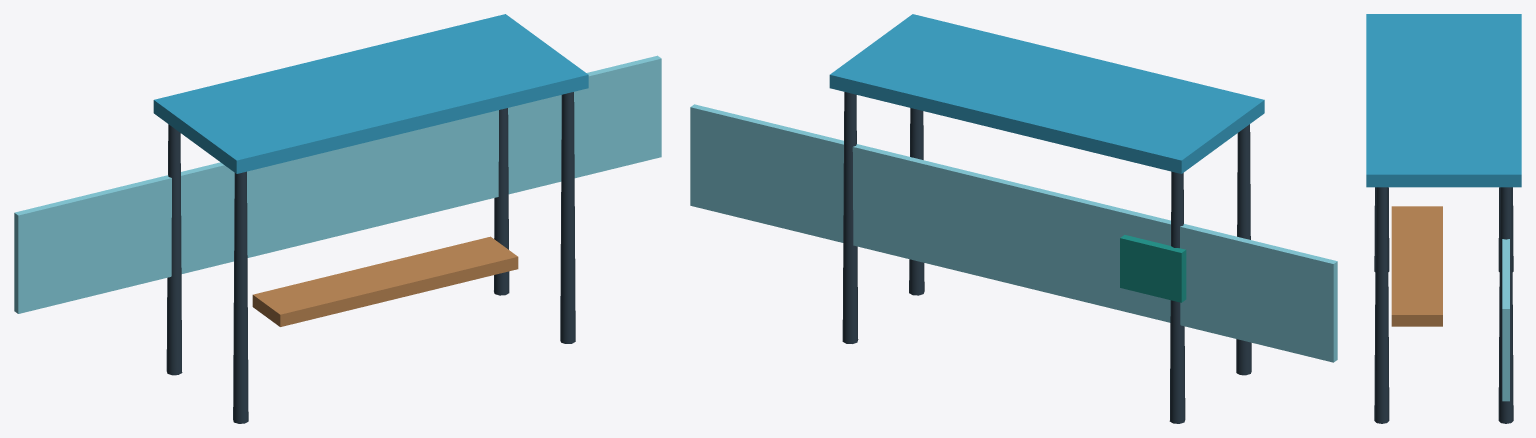
3 renders of one model, left to right at view 1: azimuth 30°, elevation 25°; view 2: azimuth 150°, elevation 25°; view 3: azimuth 270°, elevation 25°, orthographic. The views are drawn at different scales.
Visible parts, largest first — view 1: glass-panel (×2), shelter-roof, shelter-post (×4), bench; view 2: glass-panel (×2), shelter-roof, shelter-post (×4), route-sign; view 3: shelter-roof, bench, shelter-post (×4), glass-panel.
Boxes of the visible parts, x1=… form: glass-panel (×2): x1=14, y1=55, x2=661, y2=313; shelter-roof: x1=153, y1=14, x2=588, y2=173; shelter-post (×4): x1=166, y1=92, x2=575, y2=423; bench: x1=252, y1=236, x2=518, y2=326; glass-panel (×2): x1=690, y1=104, x2=1337, y2=362; shelter-roof: x1=829, y1=14, x2=1264, y2=173; shelter-post (×4): x1=842, y1=92, x2=1251, y2=423; route-sign: x1=1120, y1=235, x2=1186, y2=302; shelter-roof: x1=1366, y1=14, x2=1521, y2=187; bench: x1=1391, y1=206, x2=1442, y2=326; shelter-post (×4): x1=1374, y1=187, x2=1513, y2=423; glass-panel: x1=1502, y1=239, x2=1509, y2=401.
Size of the model in its own units: 6.49 by 2.59 by 1.45.
